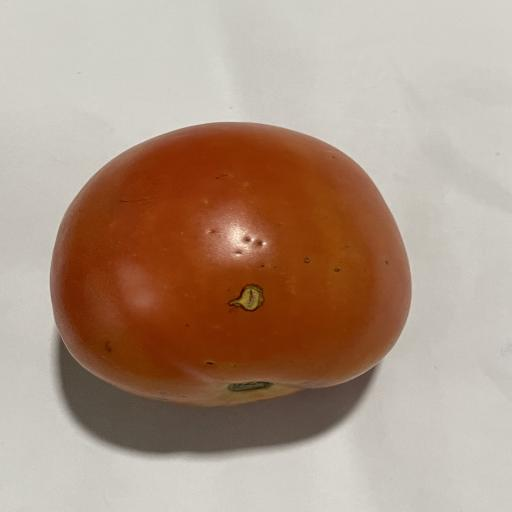unripe: (51, 123, 411, 406)
